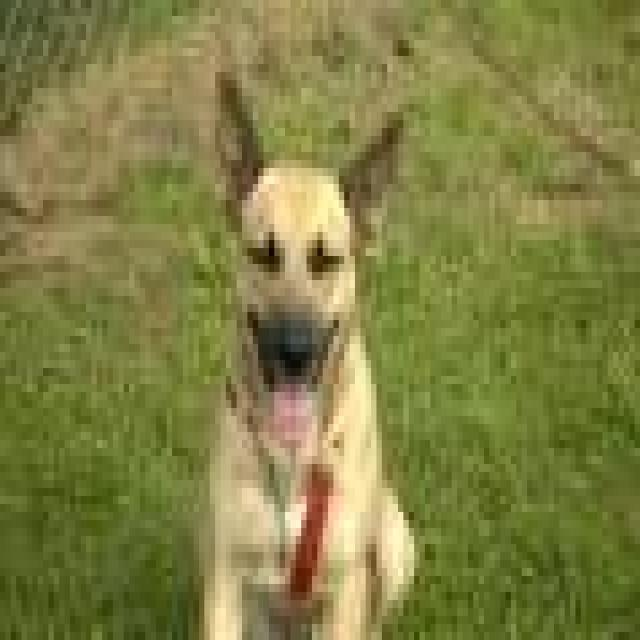dog: (188, 64, 414, 632)
